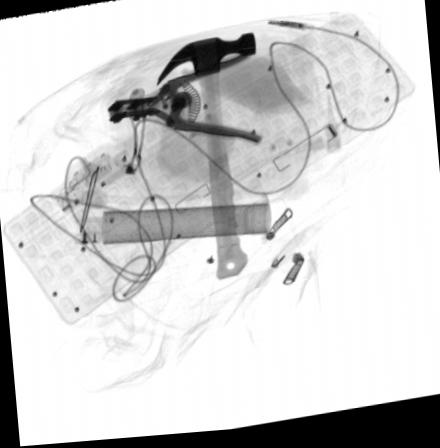Hammer: (156, 35, 255, 285)
Pliers: (104, 51, 263, 151)
